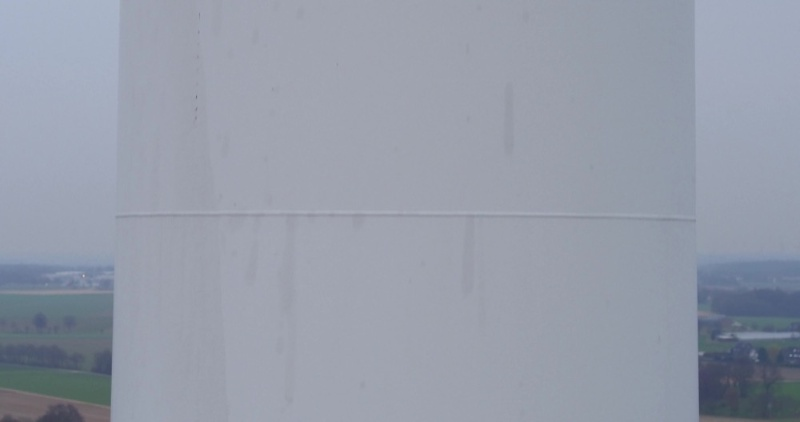weldseam: (114, 202, 700, 230)
